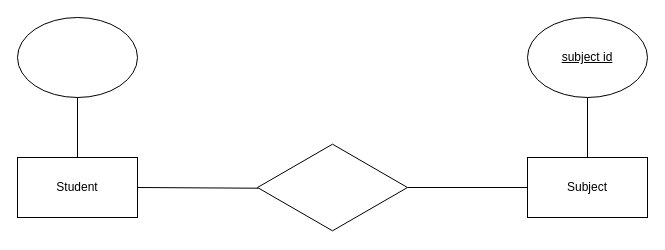
The diagram is 665 pixels wide and 250 high, and some of its shapes have lost their labels. The shapes that lost their labels are listed below. From the top down, each one's centre as x and y in pixels, then its label:
point 77,57: student id
point 332,187: Learns
